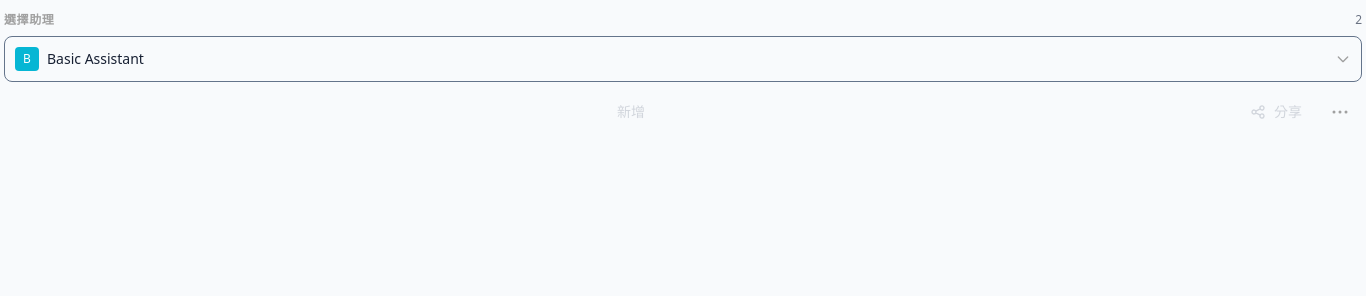
Test: AssistantList › Rendering › keeps the primary share action visible and tucks management actions into one menu
Expected: the button with aria-label "分享助理" is shown, [1238,90,1314,134]
Expected: the button "編輯助理" is not shown
Click the button named "管理助理": (1340, 112) [1318,90,1362,134]
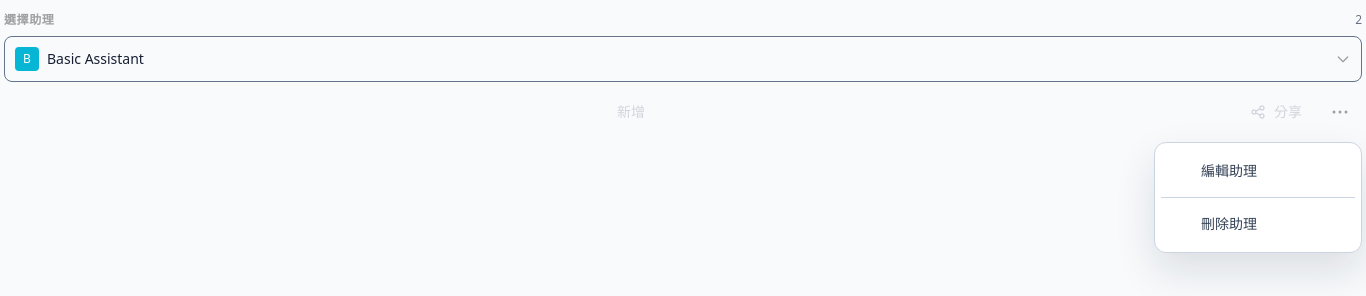
Now the button "編輯助理" is shown, box [1161,149,1355,193]
Now the button "刪除助理" is shown, box [1161,202,1355,246]
